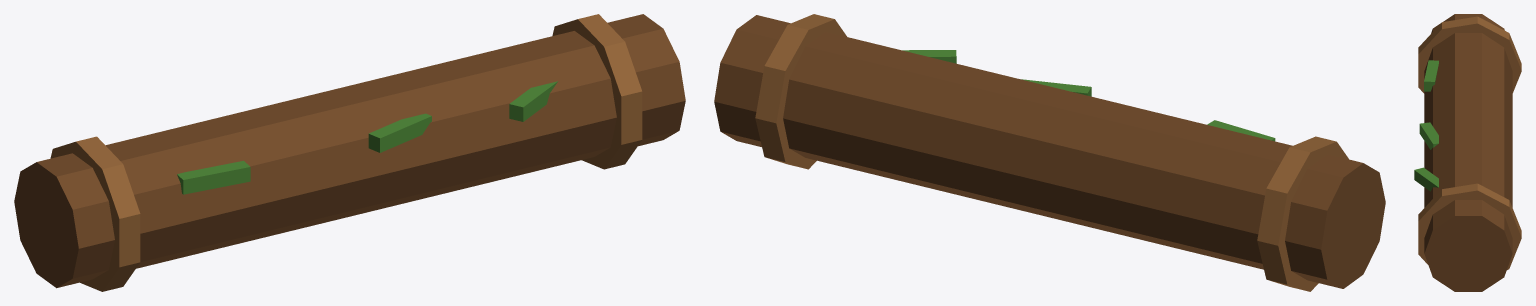
File: SM_FallenJungleLog_A.glb
The picture shows the model from 3 angles, left to right: view 1: azimuth 30°, elevation 25°; view 2: azimuth 150°, elevation 25°; view 3: azimuth 270°, elevation 25°; orthographic projection. The views are drawn at different scales.
Parts seen in each view (by area): view 1: SM_FallenJungleLog_A; view 2: SM_FallenJungleLog_A; view 3: SM_FallenJungleLog_A.
Part boxes in pixels (box(x1,y1,x2,y2)): SM_FallenJungleLog_A: box(14, 14, 685, 291); SM_FallenJungleLog_A: box(714, 14, 1385, 291); SM_FallenJungleLog_A: box(1414, 14, 1521, 291).
Bounding box in the file's own units: 5.2 × 1.14 × 1.17.
